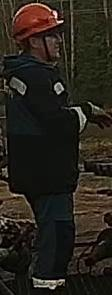gloves: (82, 98, 112, 131)
helmet: (11, 2, 64, 41)
vest: (2, 55, 80, 196)
